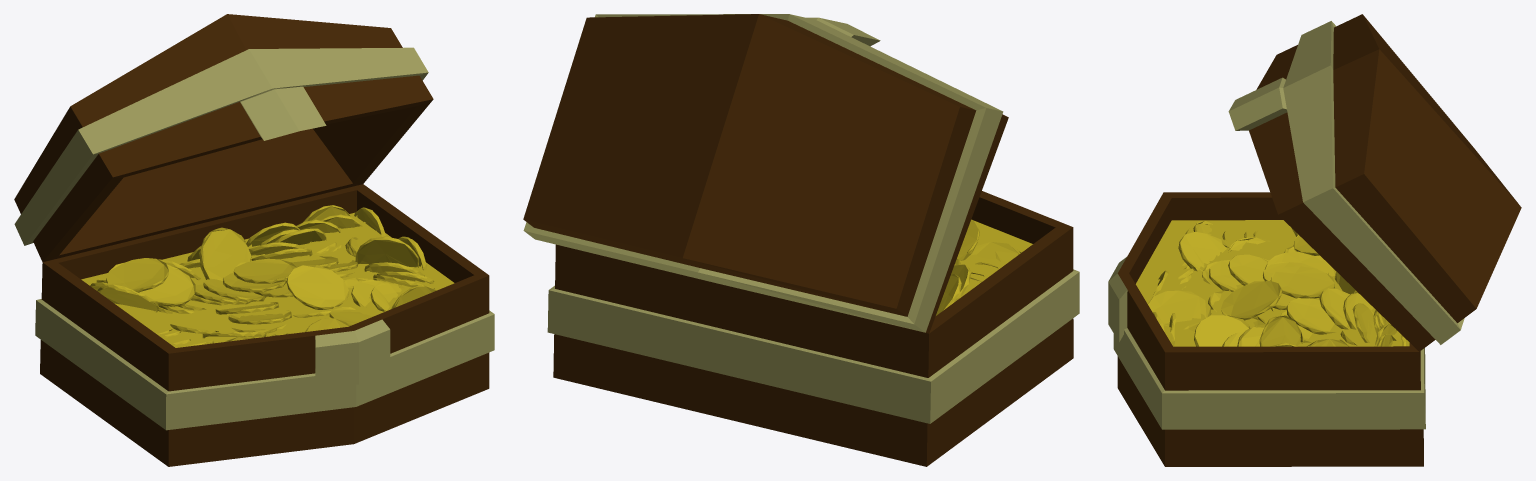
The model's file is skarb static.fbx.
3 renders of one model, left to right at view 1: azimuth 30°, elevation 25°; view 2: azimuth 150°, elevation 25°; view 3: azimuth 270°, elevation 25°, orthographic. The views are drawn at different scales.
Visible parts, largest first — view 1: Circle.150; view 2: Circle.150; view 3: Circle.150.
Part boxes in pixels (x1=…): Circle.150: x1=14, y1=14, x2=494, y2=466; Circle.150: x1=523, y1=14, x2=1079, y2=466; Circle.150: x1=1108, y1=14, x2=1521, y2=466.
Bounding box in the file's own units: 474 × 451 × 496.
